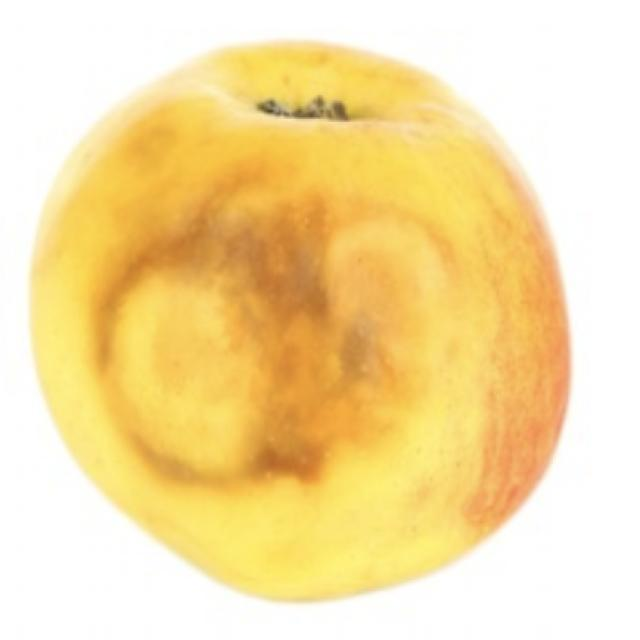Rotten: (55, 44, 585, 584)
